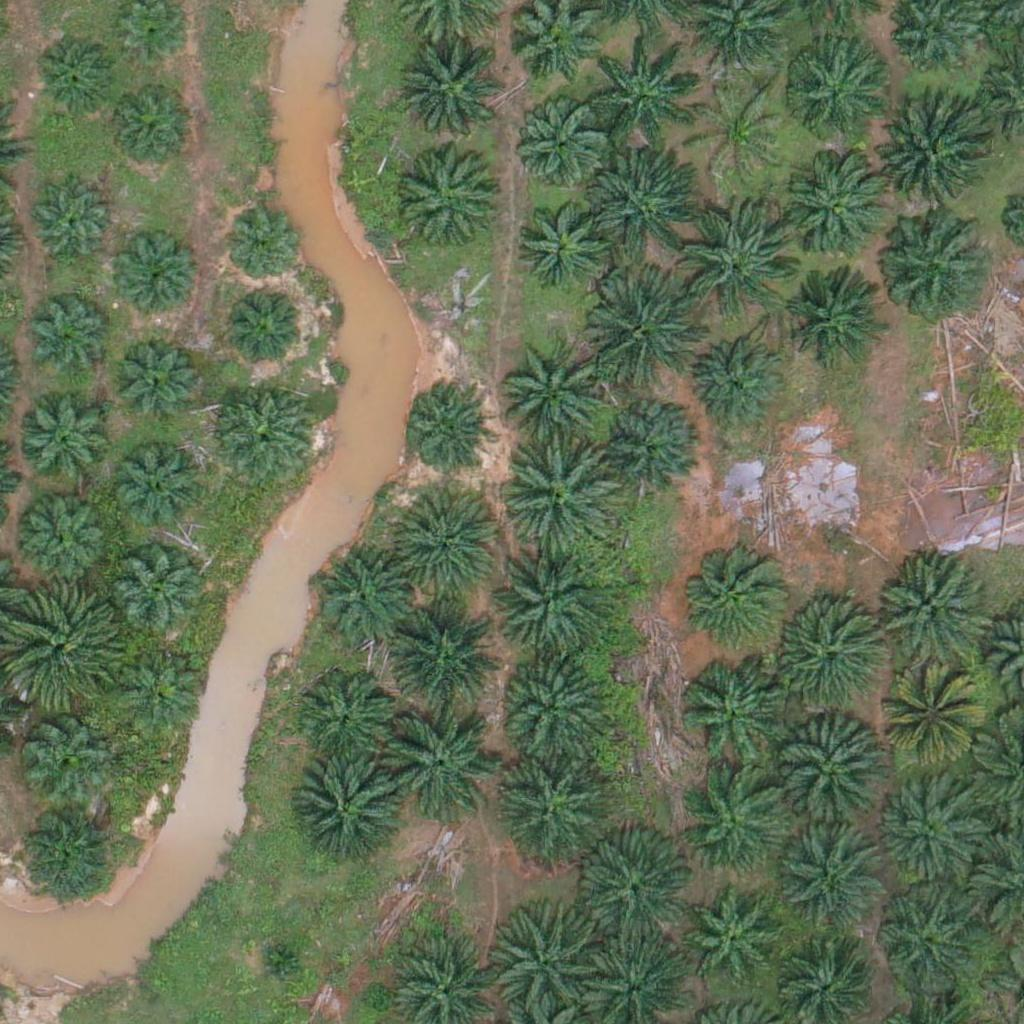Kelapa_Sawit: (500, 646, 613, 760), (588, 274, 701, 388), (491, 551, 604, 665), (389, 487, 502, 601), (775, 719, 888, 832), (677, 661, 790, 774), (288, 758, 401, 871), (875, 99, 988, 212), (589, 148, 702, 261), (5, 588, 118, 701), (680, 766, 792, 880), (783, 149, 895, 263), (678, 538, 790, 652), (388, 595, 500, 709), (398, 38, 510, 152), (581, 841, 693, 954), (492, 749, 604, 862), (492, 897, 604, 1010), (380, 706, 492, 819), (874, 557, 986, 670), (764, 601, 876, 714), (877, 215, 989, 328), (681, 204, 793, 317), (586, 35, 698, 148), (502, 328, 614, 441), (506, 442, 618, 555), (873, 778, 973, 879), (875, 890, 975, 991), (781, 835, 881, 936), (682, 890, 782, 991), (295, 668, 395, 769), (691, 77, 791, 178), (598, 395, 698, 496), (508, 95, 608, 196), (512, 191, 612, 292), (401, 147, 501, 248), (214, 380, 314, 481), (106, 441, 206, 542), (314, 548, 414, 649), (879, 672, 979, 772), (16, 803, 116, 903), (784, 268, 884, 368), (781, 40, 881, 140), (687, 341, 787, 441), (16, 487, 116, 587), (20, 391, 120, 491), (20, 710, 108, 798), (103, 84, 191, 172), (117, 645, 205, 733), (26, 294, 114, 382), (402, 381, 489, 469), (32, 32, 119, 120), (25, 180, 112, 268), (114, 237, 201, 325), (221, 283, 308, 371), (115, 553, 202, 641), (110, 332, 197, 420), (224, 210, 299, 286), (253, 933, 303, 984)
